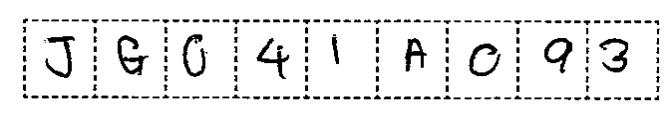0: (177, 28, 215, 86), (462, 38, 506, 80)
1: (318, 27, 352, 70)
3: (592, 34, 634, 79)
4: (248, 35, 298, 83)
9: (537, 33, 578, 79)
A: (395, 32, 435, 77)
G: (112, 31, 152, 81)
J: (38, 28, 81, 83)
